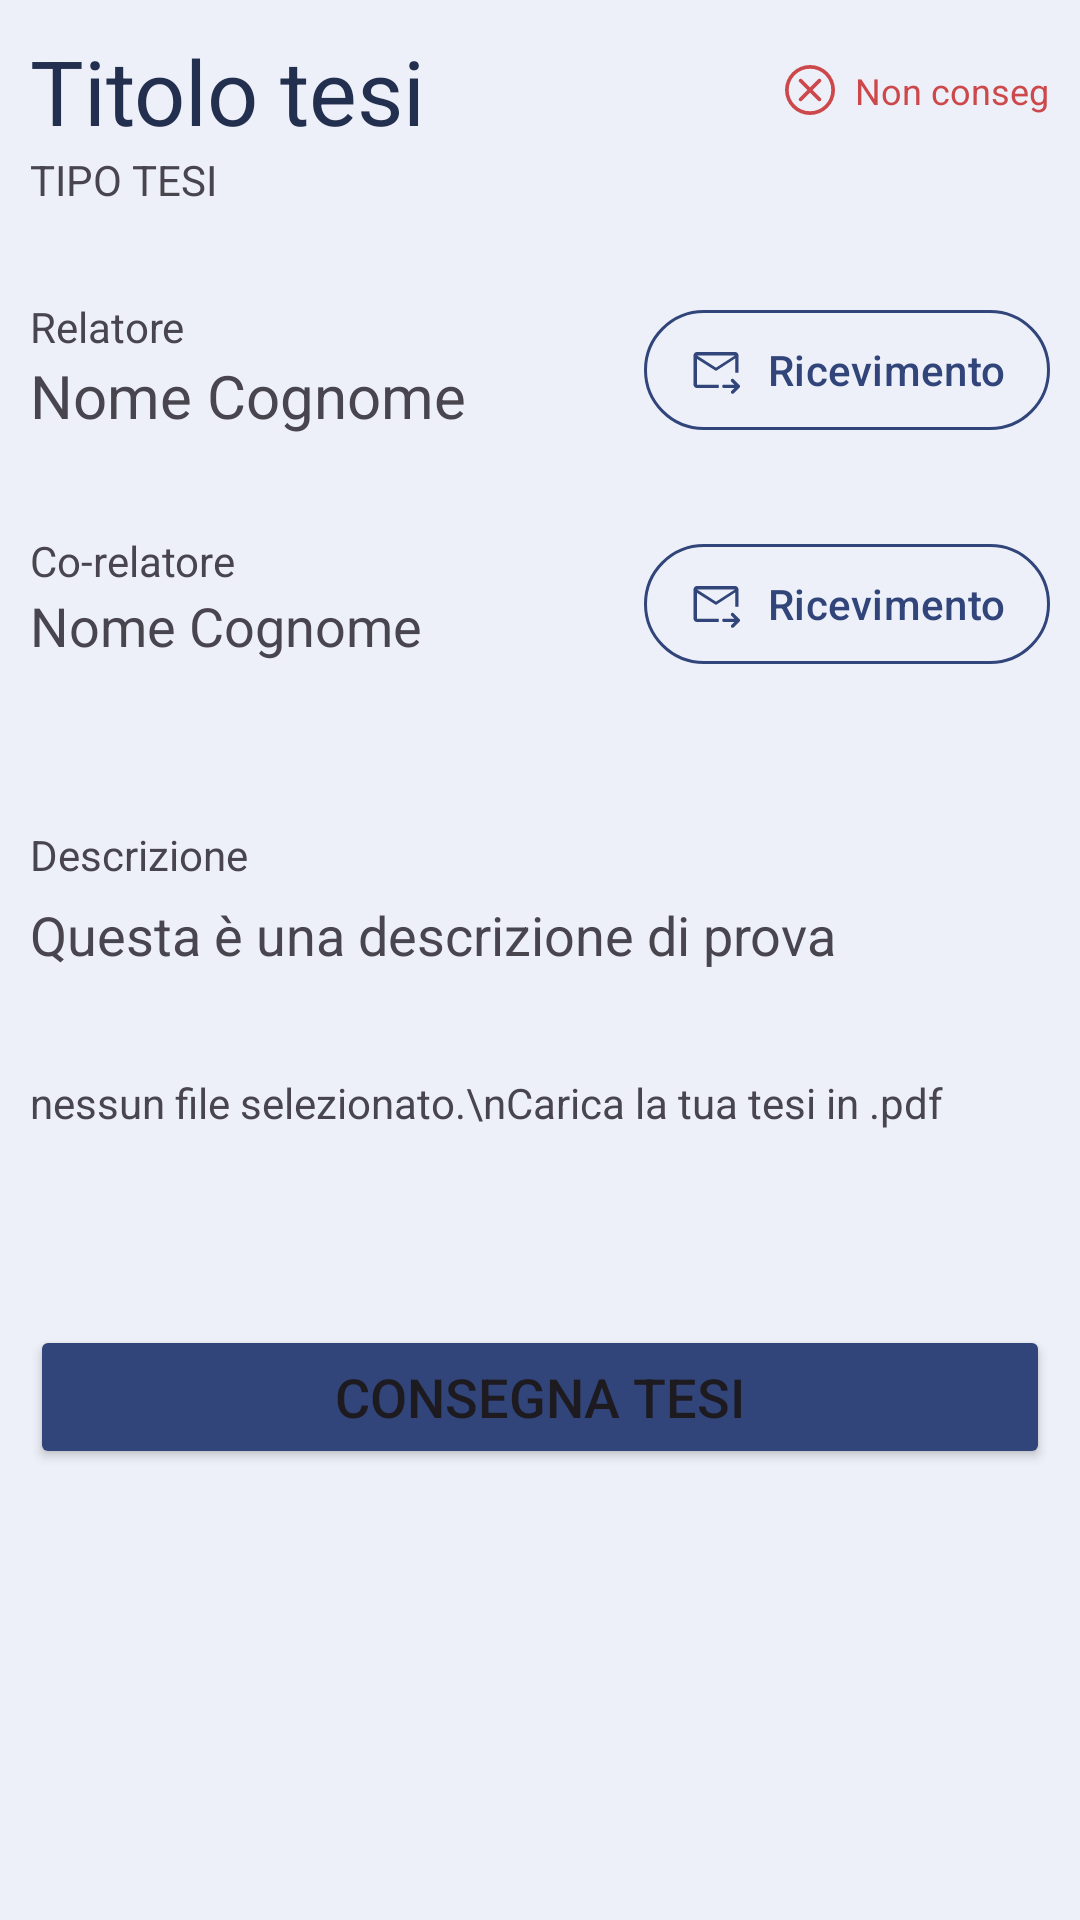

Icons on this 1080×1920 Android screen, each with its box as (x1, y1, x2, y2):
immagine di stato tesi: (785, 65, 835, 115)
